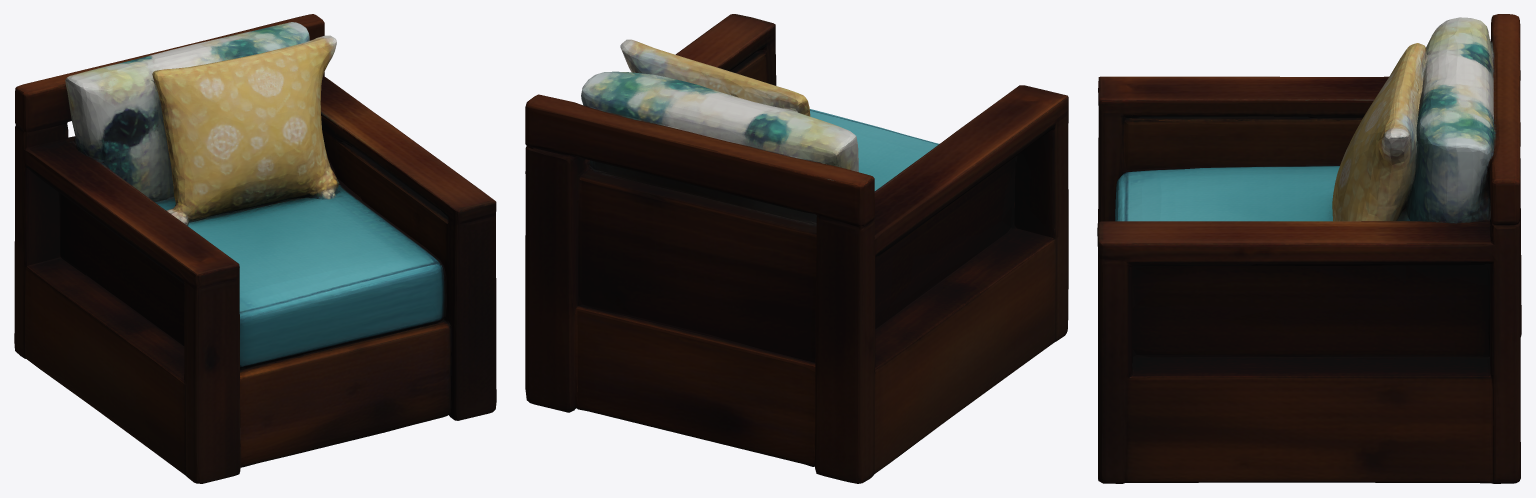
The picture shows the model from 3 angles, left to right: view 1: azimuth 30°, elevation 25°; view 2: azimuth 150°, elevation 25°; view 3: azimuth 270°, elevation 25°; orthographic projection. The views are drawn at different scales.
Parts seen in each view (by area): view 1: world; view 2: world; view 3: world.
Boxes of the visible parts, x1,y1,x2,y2 form: world: (14,14,496,483); world: (525,14,1068,483); world: (1097,14,1521,483).
Size of the model in its own units: 0.4622 by 0.4257 by 0.4911.
1 material, 1 textured.
